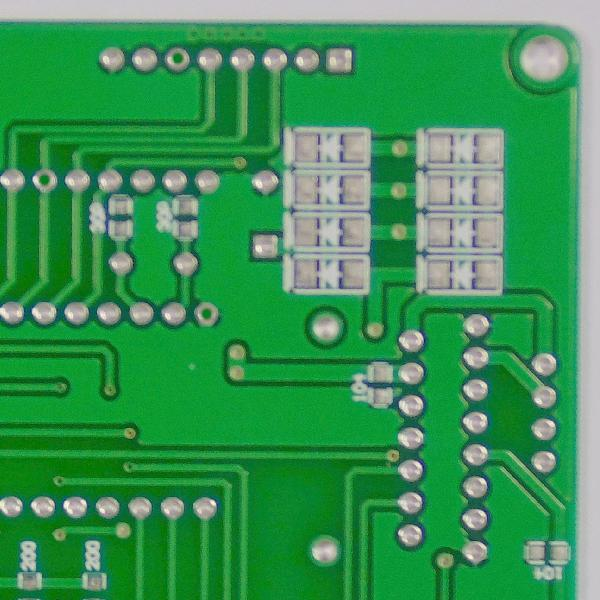missing_hole: (194, 299, 222, 332), (30, 167, 61, 195), (165, 46, 195, 72)
